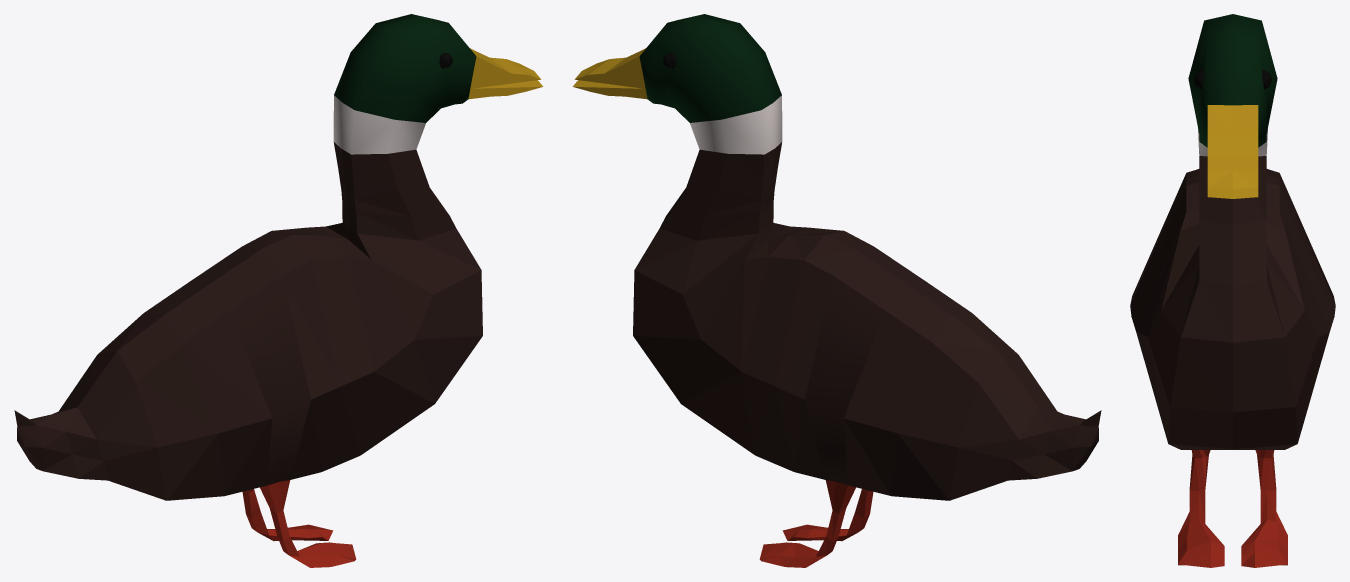
File: Duck.FBX
The picture shows the model from 3 angles, left to right: view 1: azimuth 30°, elevation 25°; view 2: azimuth 150°, elevation 25°; view 3: azimuth 270°, elevation 25°; orthographic projection. The views are drawn at different scales.
Parts seen in each view (by area): view 1: Ducky; view 2: Ducky; view 3: Ducky.
Boxes of the visible parts, <box> form: Ducky: <box>14,14,543,567</box>; Ducky: <box>572,14,1101,567</box>; Ducky: <box>1130,14,1335,567</box>.
Size of the model in its own units: 343 by 318 by 101.
